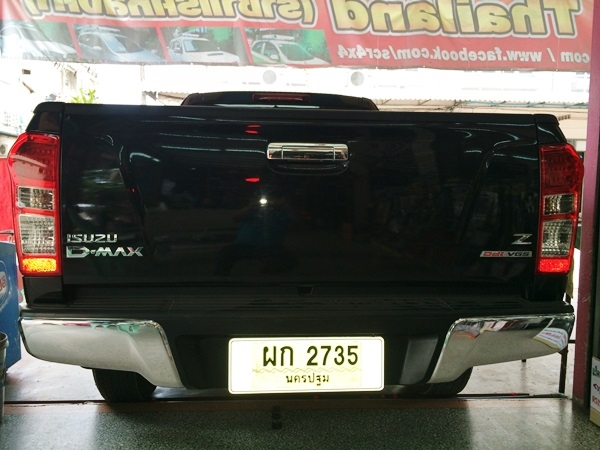Non-Bangkok: (281, 370, 334, 389)
